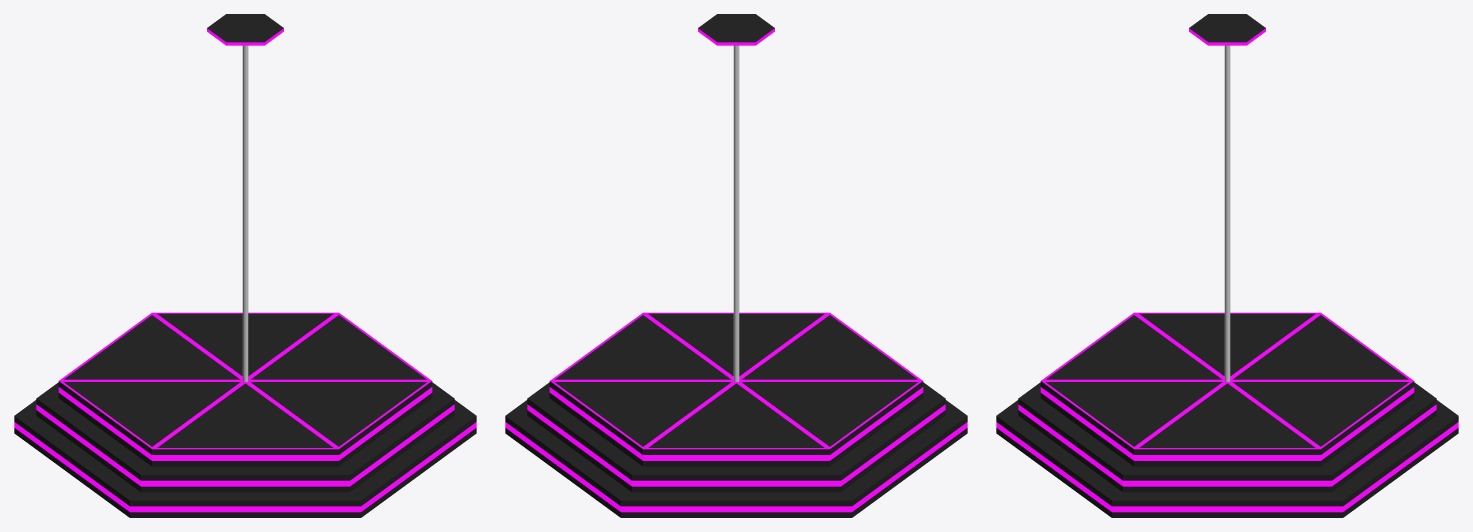
The model's file is Hex_Single_Pole.glb.
3 renders of one model, left to right at view 1: azimuth 30°, elevation 25°; view 2: azimuth 150°, elevation 25°; view 3: azimuth 270°, elevation 25°, orthographic.
Visible parts, largest first — view 1: Circle.003; view 2: Circle.003; view 3: Circle.003.
Part boxes in pixels (x1=…): Circle.003: x1=14, y1=14, x2=476, y2=517; Circle.003: x1=505, y1=14, x2=967, y2=517; Circle.003: x1=996, y1=14, x2=1458, y2=517.
Size of what is drawn, in the model's own units: 3.17 by 3.54 by 3.66.
